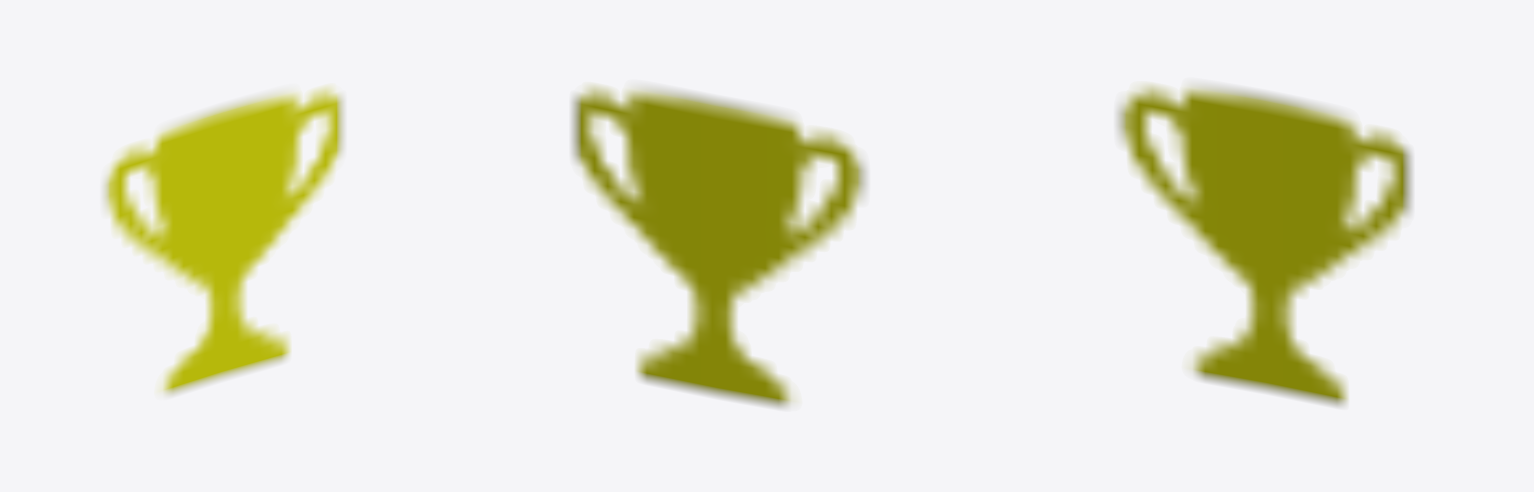
File: track1_goldcup.glb
3 renders of one model, left to right at view 1: azimuth 30°, elevation 25°; view 2: azimuth 150°, elevation 25°; view 3: azimuth 330°, elevation 25°, orthographic. The views are drawn at different scales.
Visible parts, largest first — view 1: menu_2_tr1_cupGold; view 2: menu_2_tr1_cupGold; view 3: menu_2_tr1_cupGold.
Boxes of the visible parts, x1,y1,x2,y2 form: menu_2_tr1_cupGold: (102,87,345,397); menu_2_tr1_cupGold: (570,86,867,409); menu_2_tr1_cupGold: (1116,84,1413,407).
Size of the model in its own units: 0.7071 by 0.509 by 0.0696.
1 material, 1 textured.
